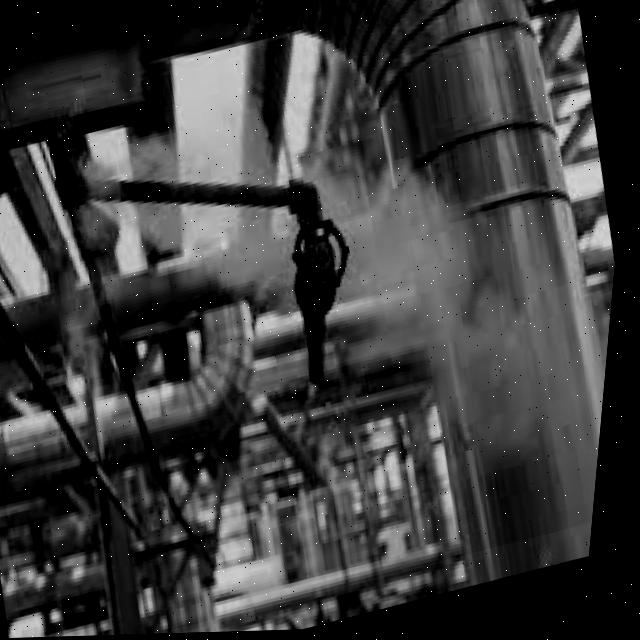corrosion: (177, 112, 467, 431)
